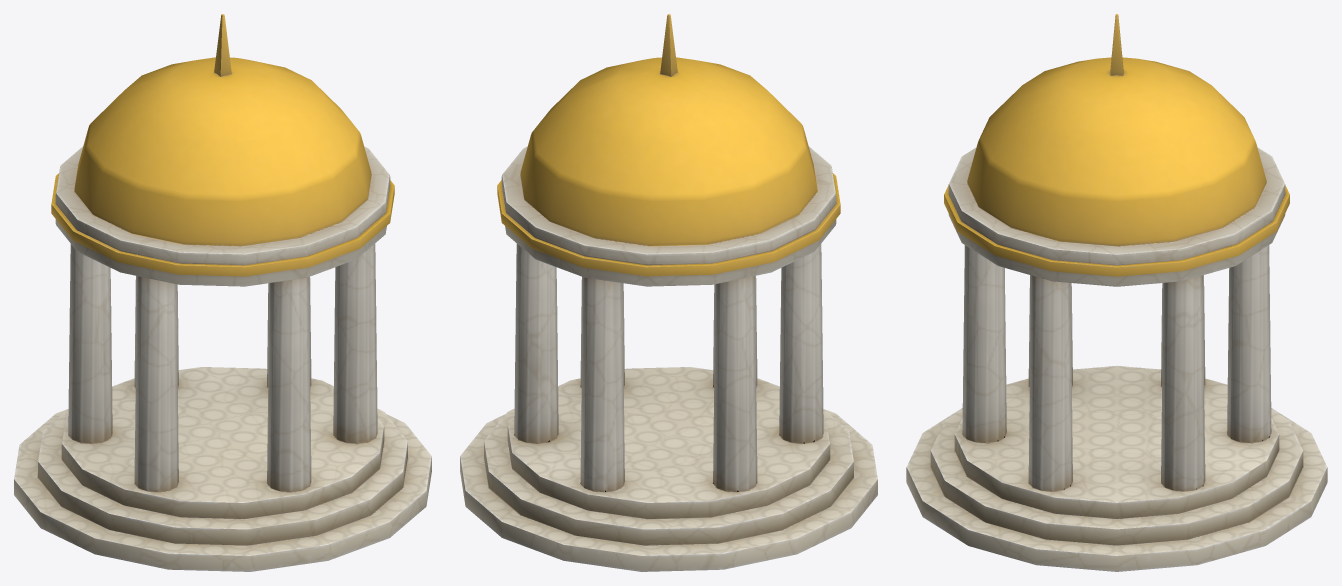
Rendered from Divin_Temple.fbx.
3 renders of one model, left to right at view 1: azimuth 30°, elevation 25°; view 2: azimuth 150°, elevation 25°; view 3: azimuth 270°, elevation 25°, orthographic.
Parts seen in each view (by area): view 1: Divin_Temple; view 2: Divin_Temple; view 3: Divin_Temple.
Boxes of the visible parts, x1=… form: Divin_Temple: x1=14, y1=14, x2=431, y2=571; Divin_Temple: x1=460, y1=14, x2=877, y2=571; Divin_Temple: x1=906, y1=14, x2=1327, y2=571.
Size of the model in its own units: 1400 by 1720 by 1400.
1 material, 1 textured.
